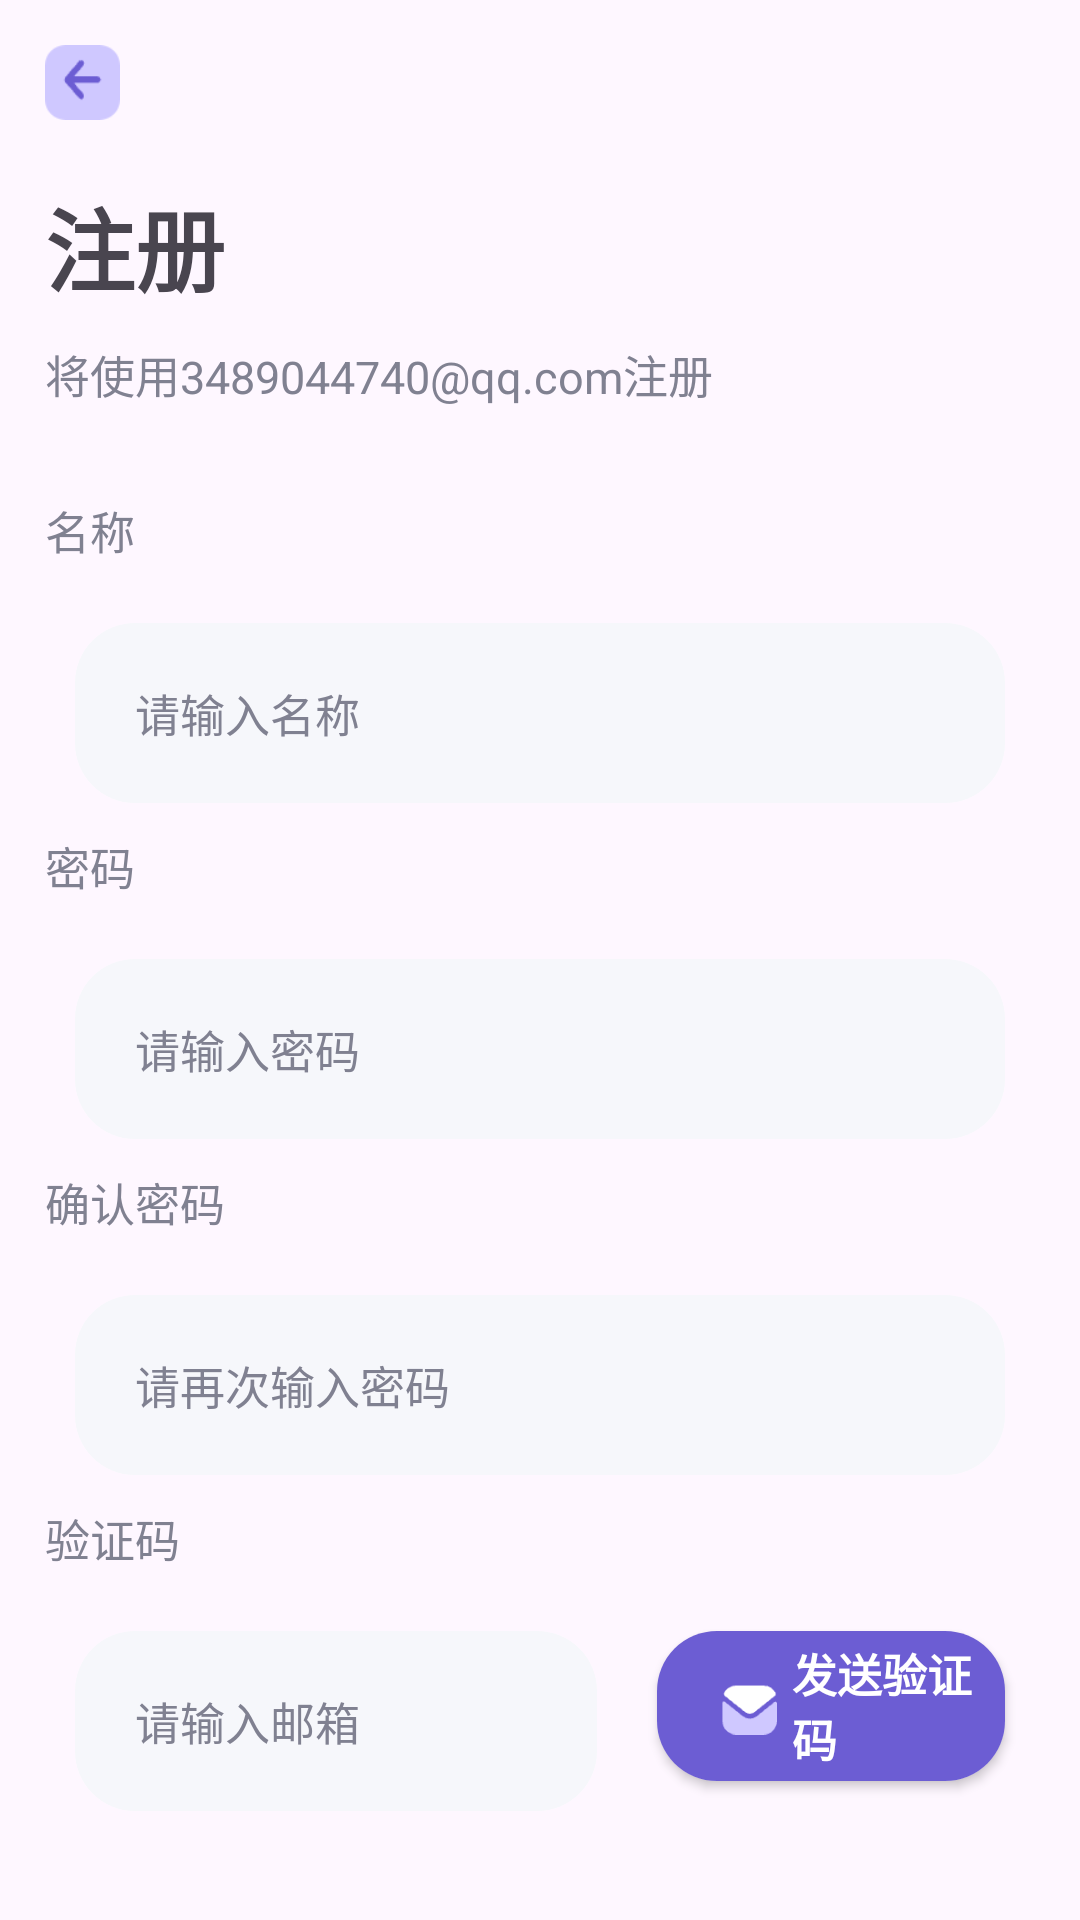

Screen size 1080*1920. Icon name, then its box in pixels as (x1, y1, x2, y2):
back: (45, 45, 120, 120)
